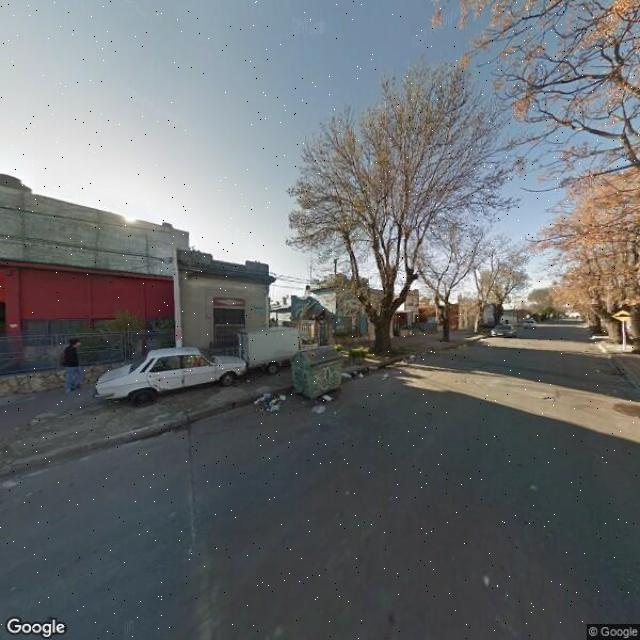garbage container: (284, 340, 352, 406)
